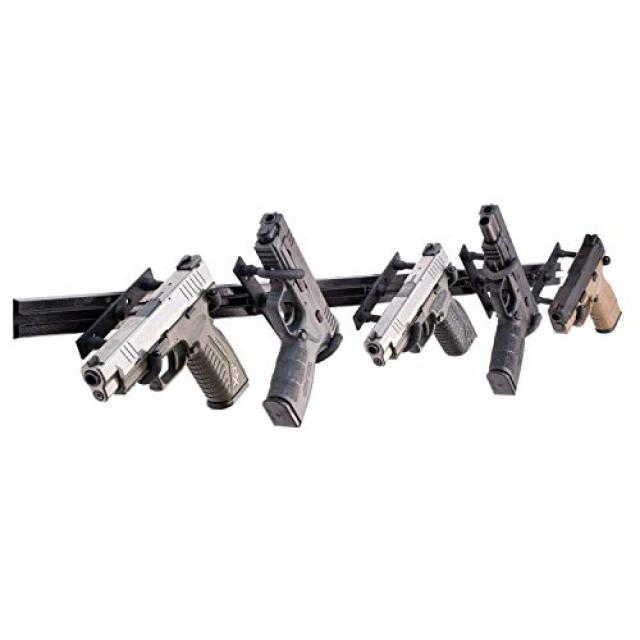HandGun: (83, 255, 248, 410), (252, 214, 344, 428), (467, 205, 543, 396), (364, 243, 479, 367), (552, 233, 623, 335)
